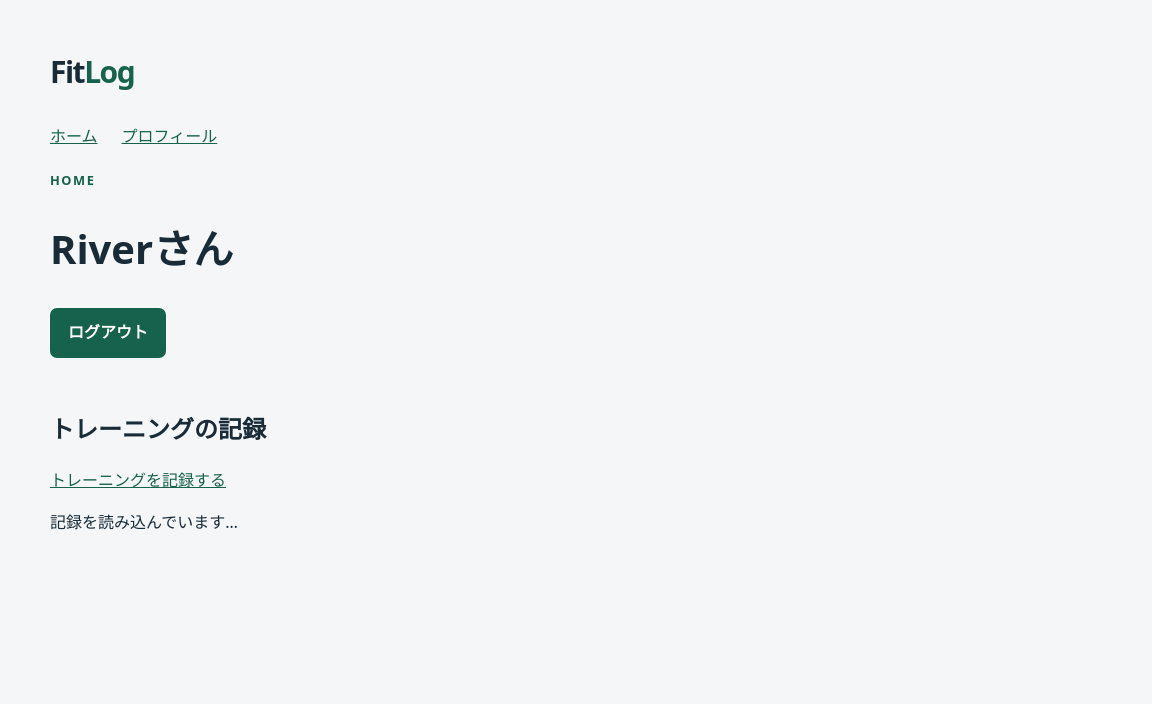
it: opens the authenticated owners profile from home
Step 1. Click the link "プロフィール" → (169, 137), box left=122, top=124, right=217, bottom=150
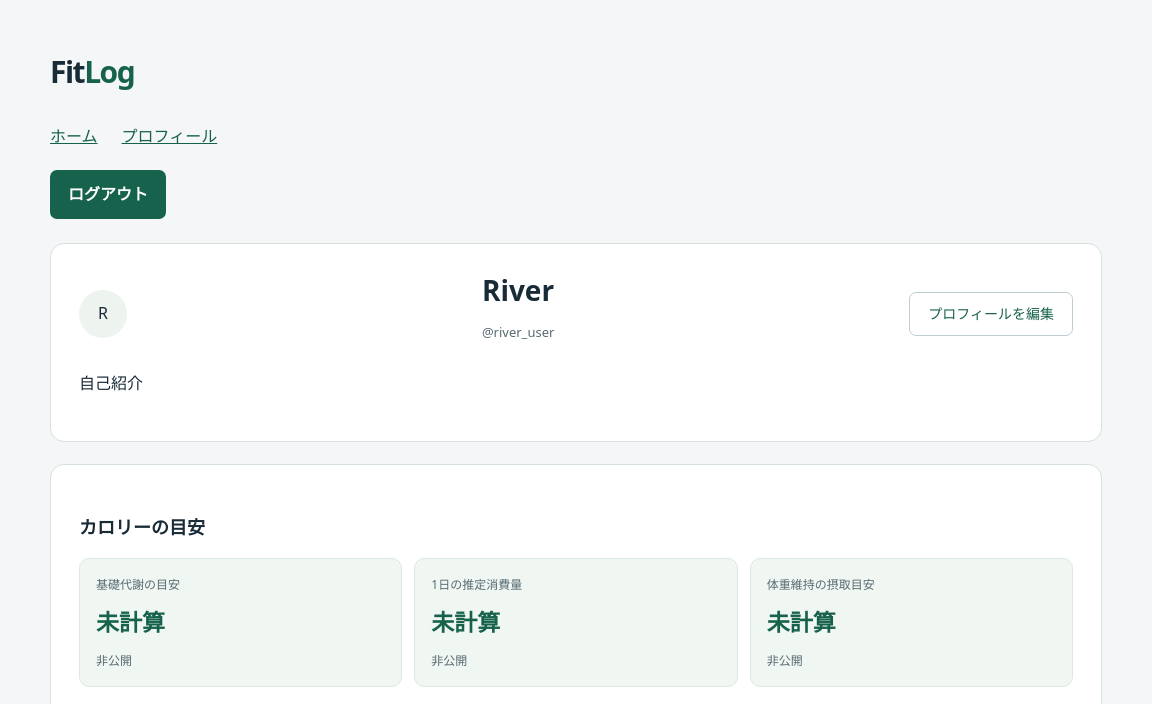
Result: the text "自己紹介" is shown at left=79, top=372, right=143, bottom=394
Result: the link "プロフィールを編集" is shown at left=909, top=292, right=1073, bottom=336
Result: the text "非公開" is shown 8 times
